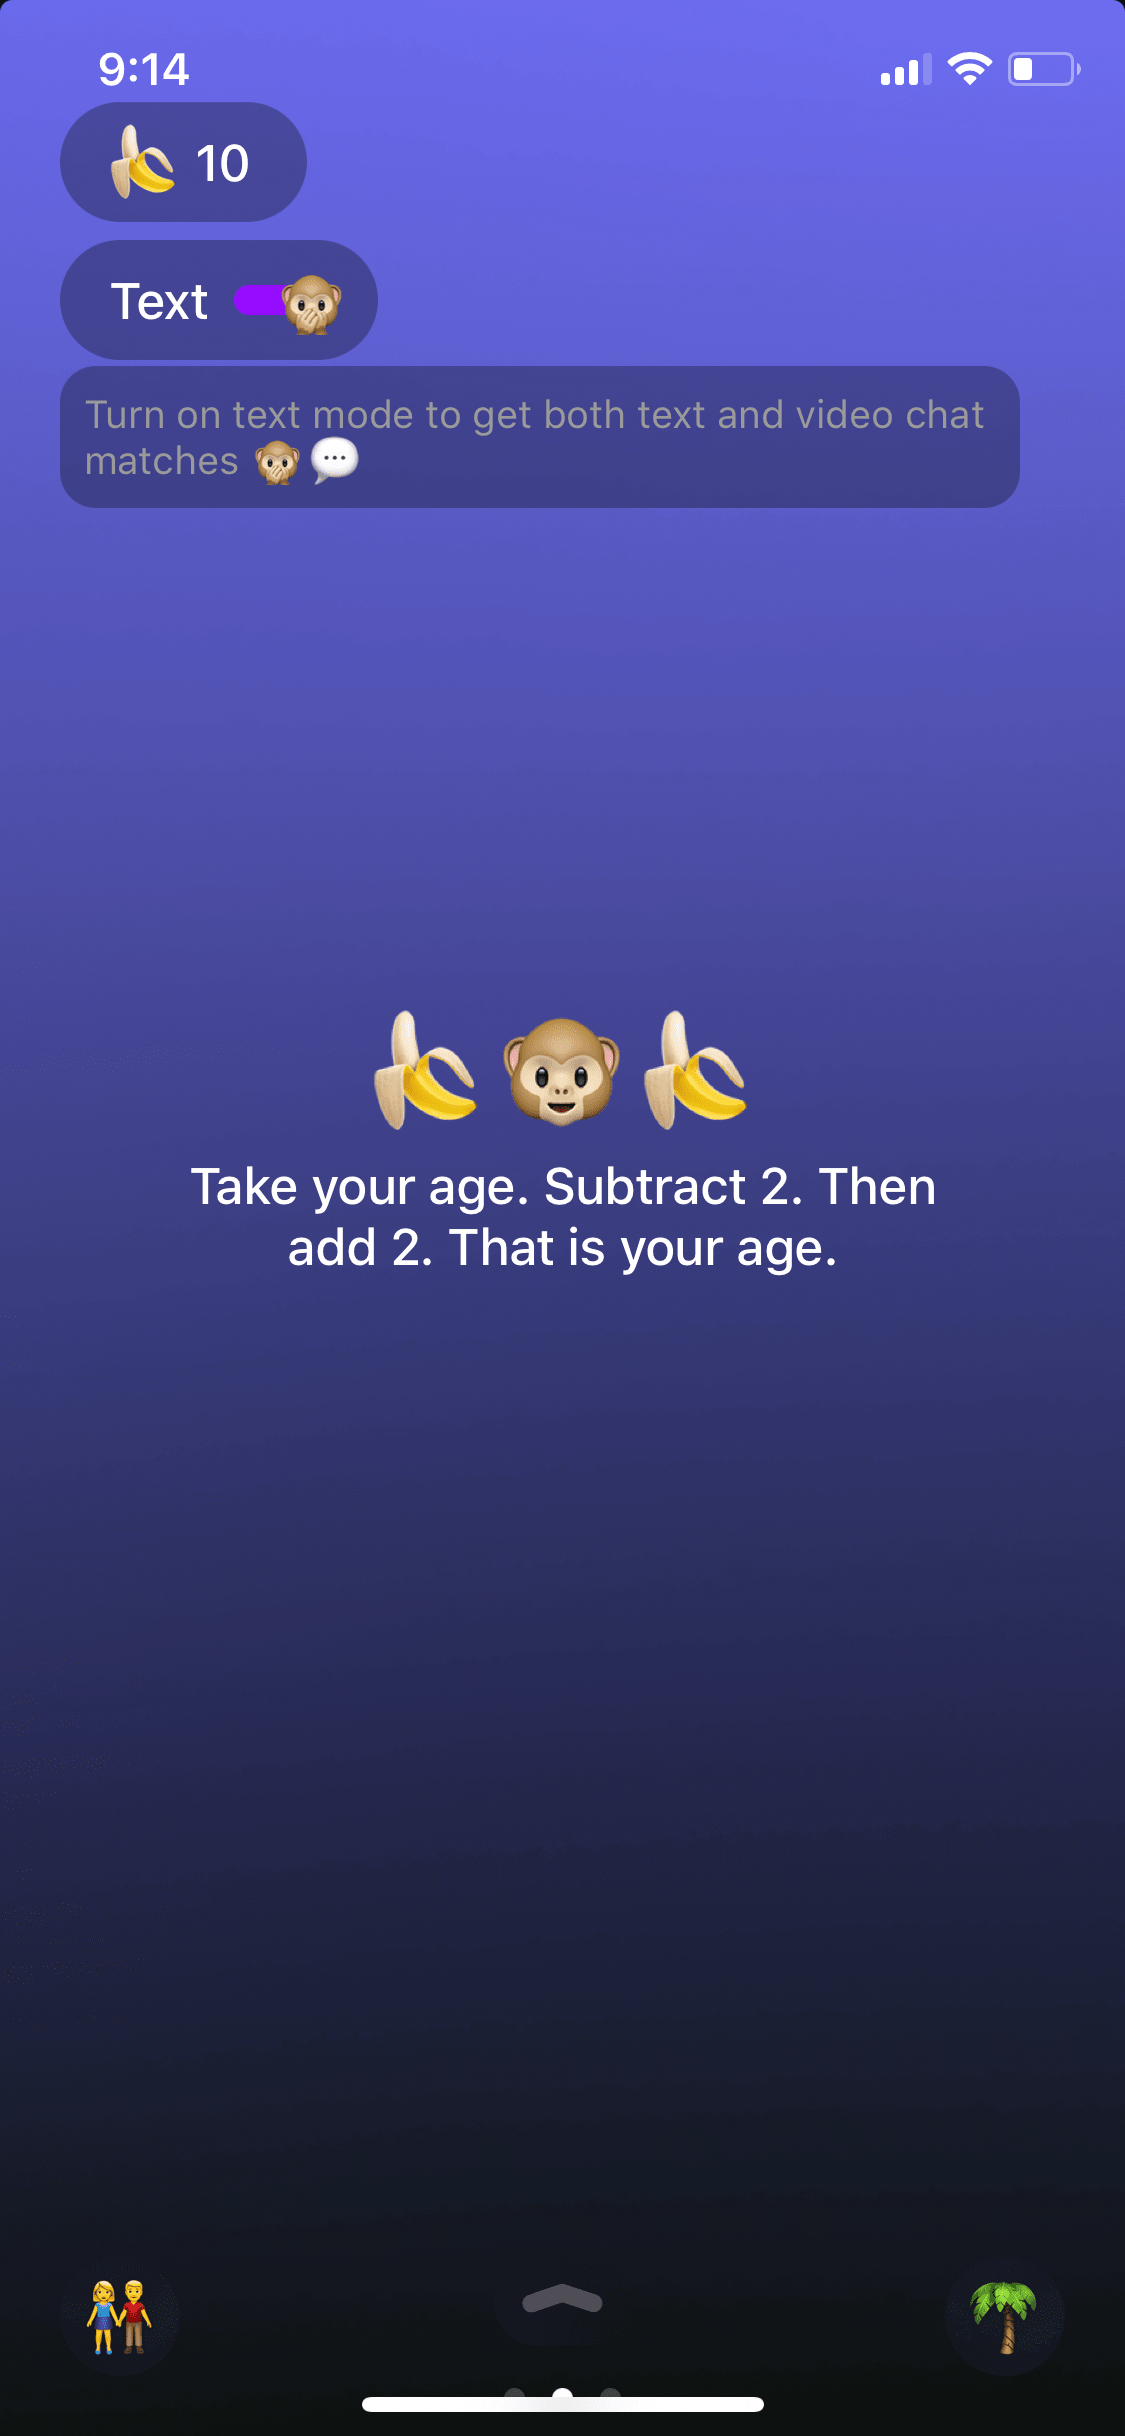Buttons: (925, 2246, 1074, 2383), (50, 2245, 194, 2379)
Switches: (218, 252, 350, 345)
